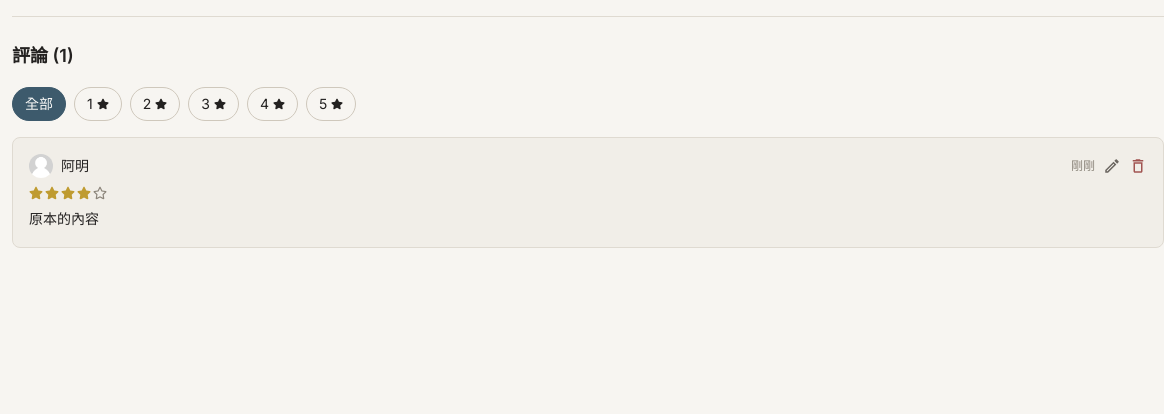
Test: CommentSection 編輯評論 › 取消編輯回到原本的顯示
The width and height of the screenshot is (1164, 414).
Click the button named "編輯評論".
click(1112, 166)  # box left=1103, top=157, right=1121, bottom=175
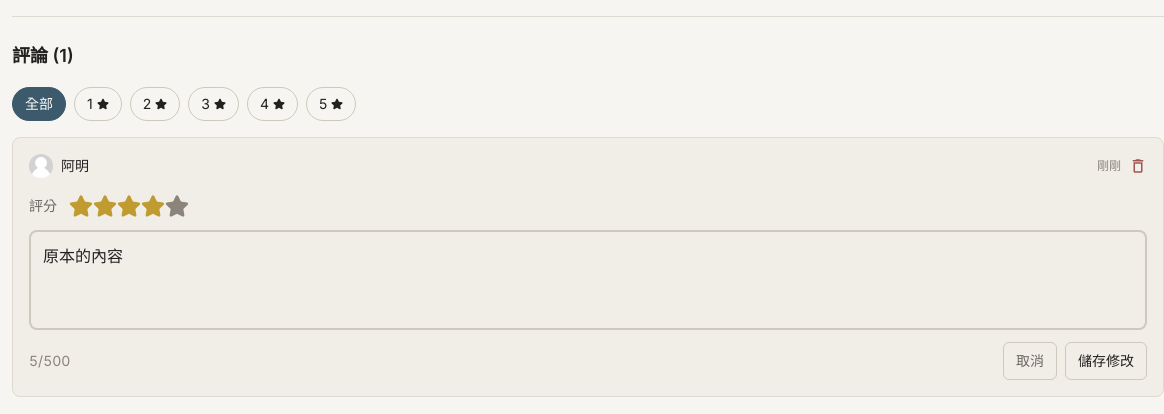
Click the button "取消".
click(1030, 361)  # box left=1003, top=342, right=1057, bottom=380
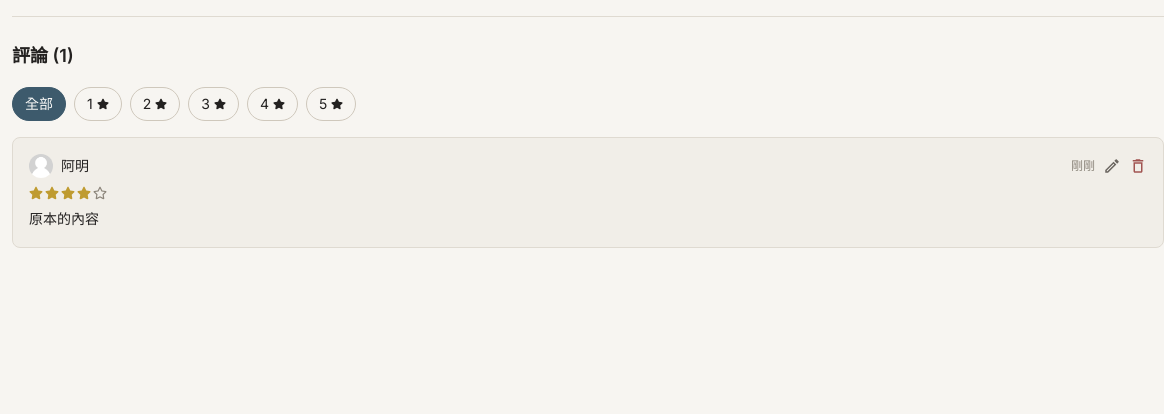
Expected: the text box labelled "評論內容" is gone
Expected: the text "原本的內容" is shown, left=29, top=210, right=99, bottom=227
